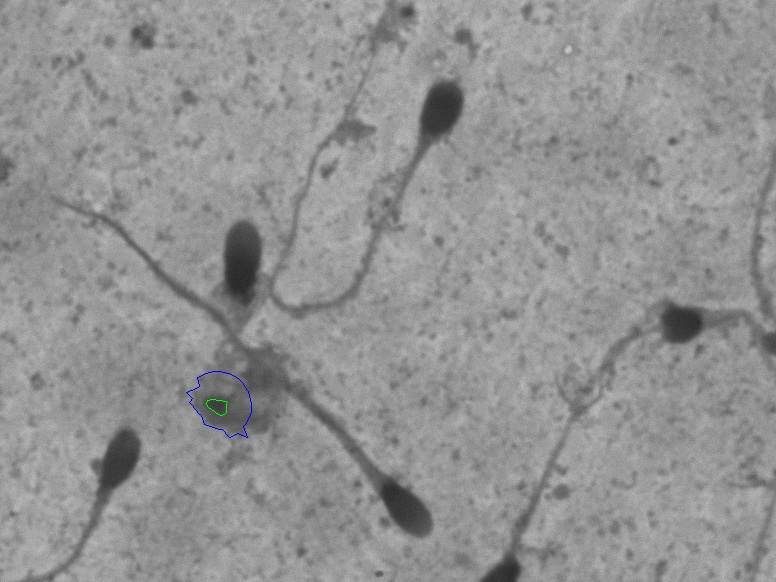Abnormal: (287, 51, 498, 324), (273, 369, 463, 576), (35, 427, 171, 563)
